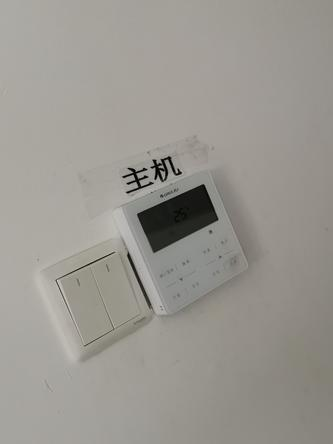switch: (52, 260, 115, 348), (88, 250, 146, 330)
